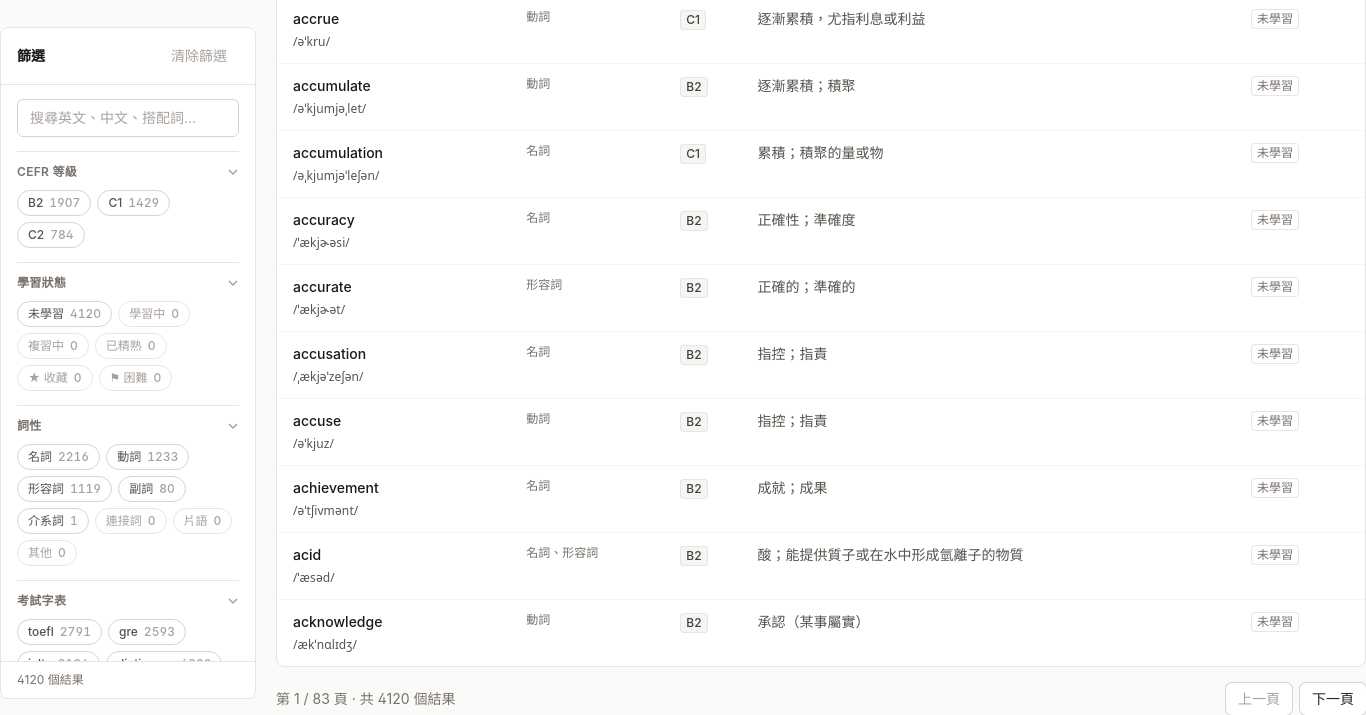
Test case: WordBankPage › moves between pages and resets to the first page when filtering
(page scrolled)
Expected: the button "上一頁" is disabled, [1226, 683, 1292, 714]
Step 1. Click the button "下一頁" → (1333, 699), box [1300, 683, 1365, 714]
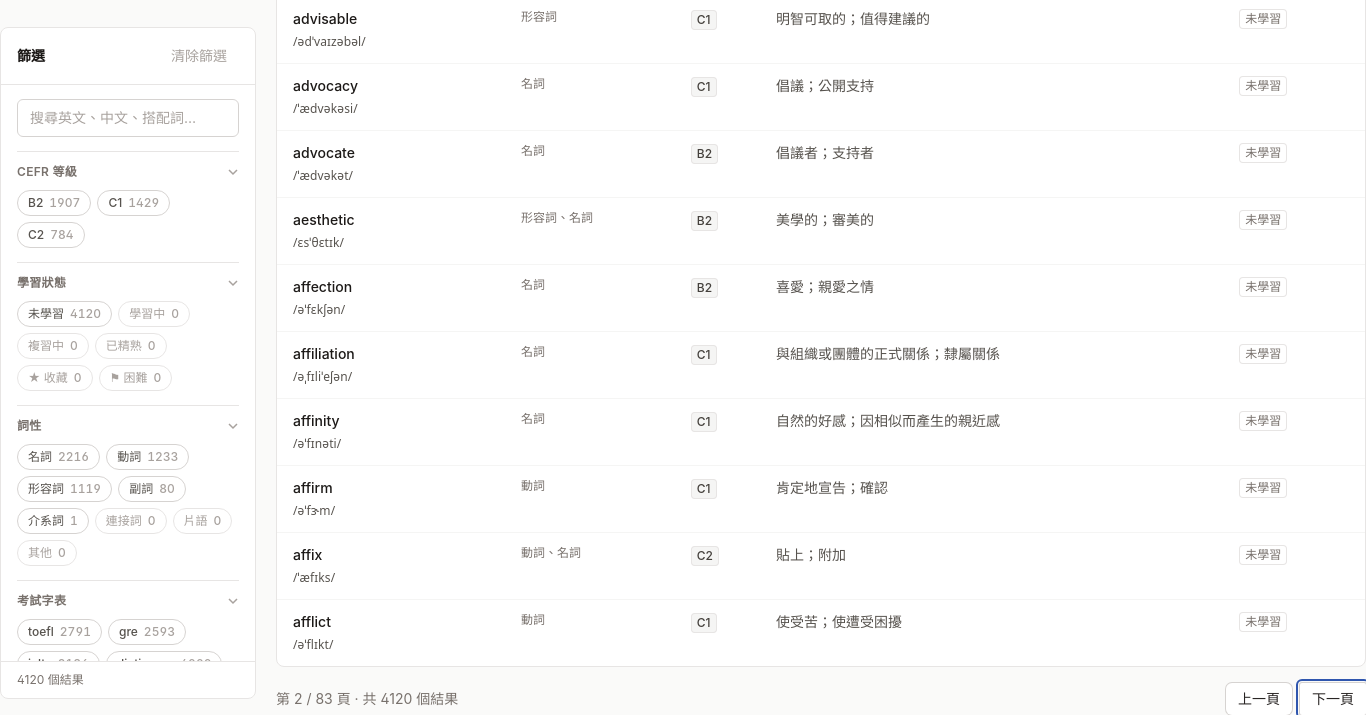
Step 2. Type "hypothesis" into the search field named "搜尋字彙" → (128, 118), box [17, 99, 239, 137]
(page scrolled)
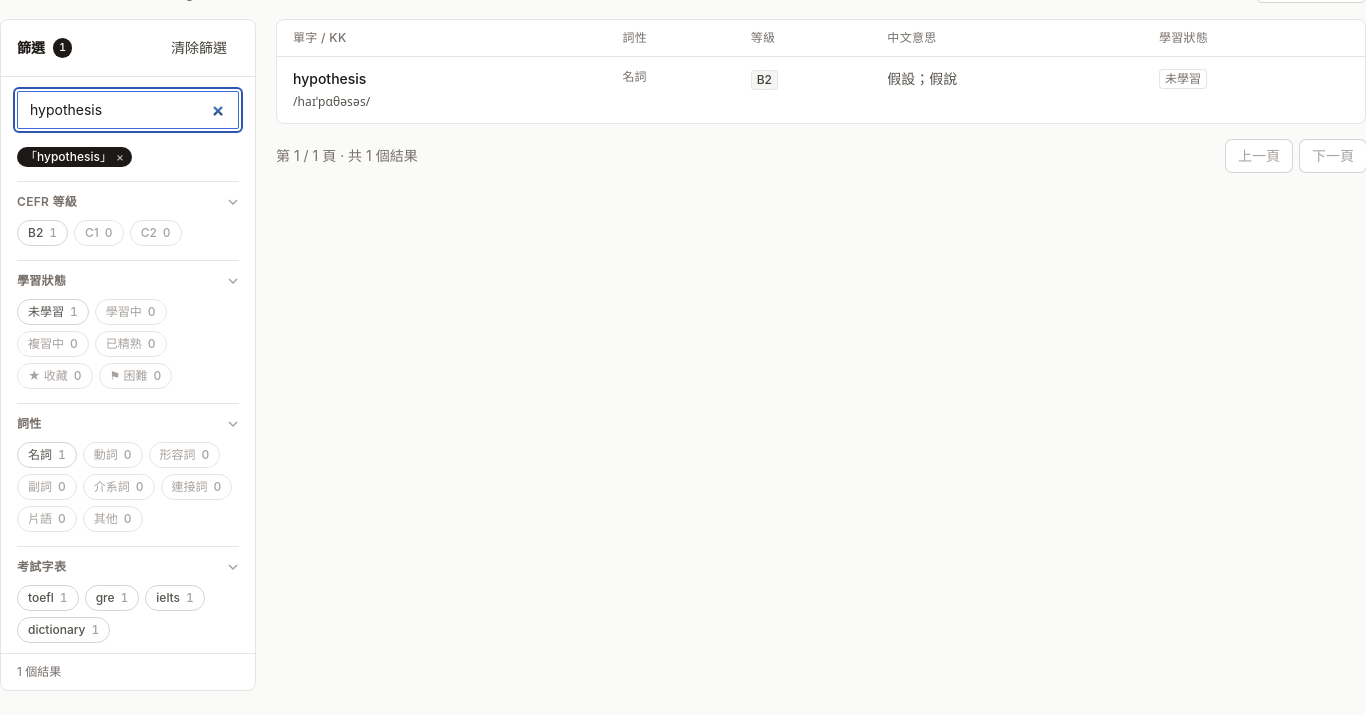
Expected: the button "上一頁" is disabled, [1226, 140, 1292, 172]
Expected: the link "hypothesis" is shown, [293, 70, 366, 87]
